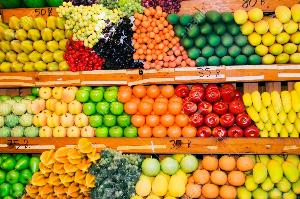apple: (178, 86, 256, 140), (135, 147, 197, 199), (83, 82, 135, 138)
apricot: (130, 6, 194, 70)
banana: (244, 77, 300, 139)
grape: (66, 2, 132, 72)
mango: (240, 0, 300, 66), (188, 0, 244, 68), (248, 151, 300, 199)
orange: (119, 86, 195, 138), (188, 154, 248, 199)
peach: (34, 77, 92, 141)
